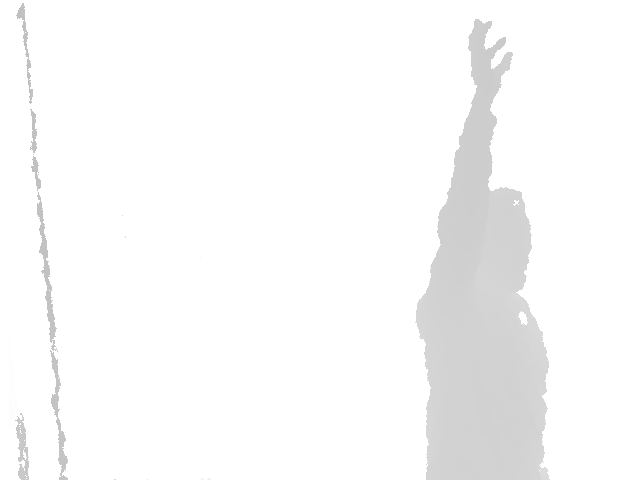hand: (467, 18, 514, 97)
head: (454, 188, 531, 292)
person: (414, 18, 551, 480)
